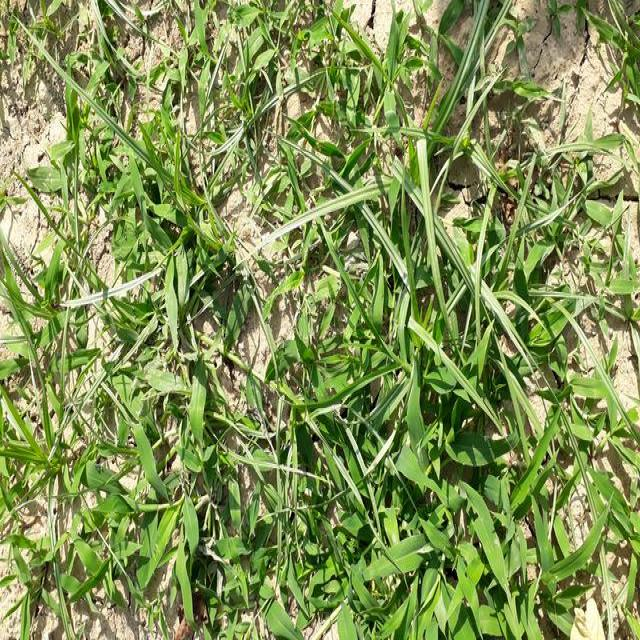weed: (346, 110, 521, 640), (65, 96, 232, 338), (131, 394, 262, 624)
